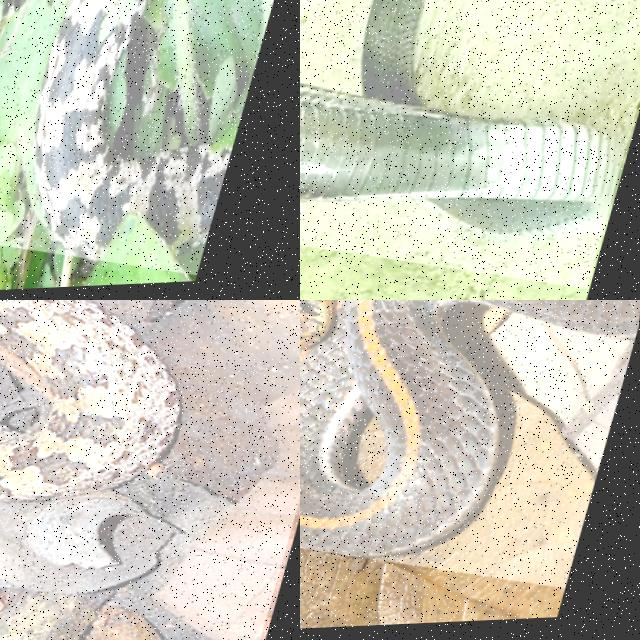Calliophis intestinalis: (300, 300, 498, 556)
Naja siamensis: (300, 0, 621, 237)
Ovophis monticola: (36, 0, 230, 258), (0, 300, 179, 500)
